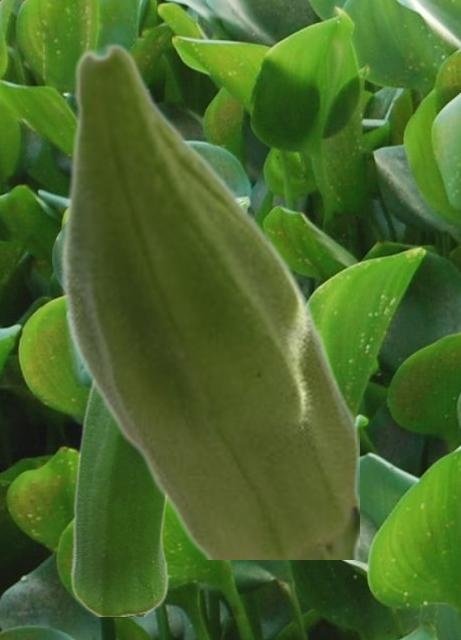okra: (60, 42, 358, 558), (69, 195, 250, 615)
